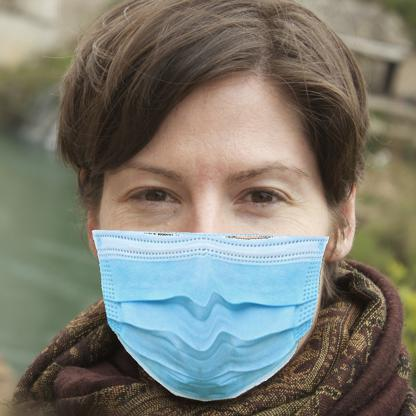mask: (90, 227, 332, 403)
